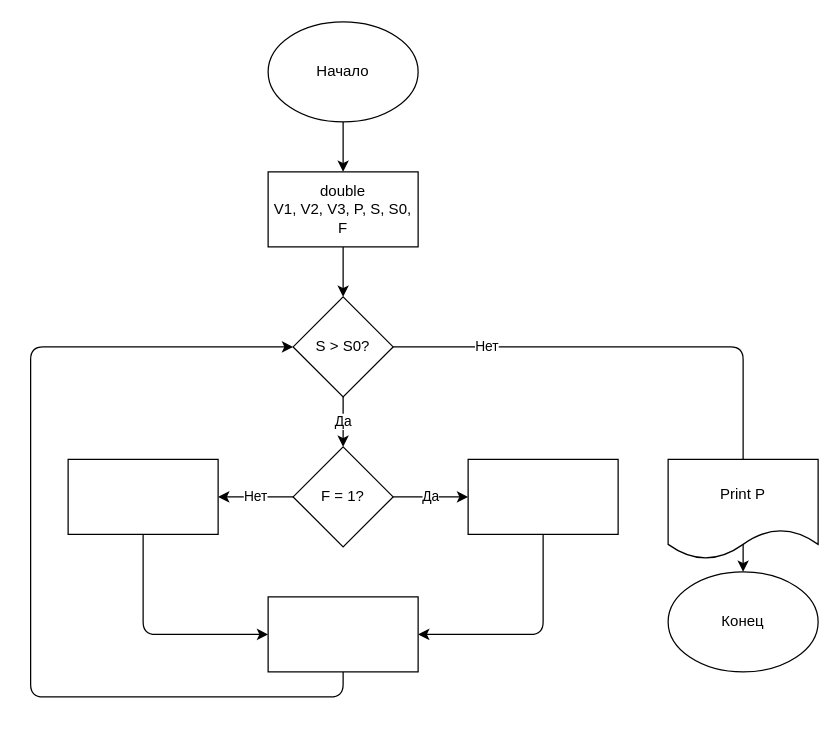
This 840x729 diagram has some shape labels left out. The centre of each missing label's shape, as x and y in pixels:
P = P+1: the point at 342,634
S = S-(S*V1/(V1+V2)); F = 1: the point at 142,496
S = S-(S*V2/(V2+V3)); F = 2: the point at 542,496
